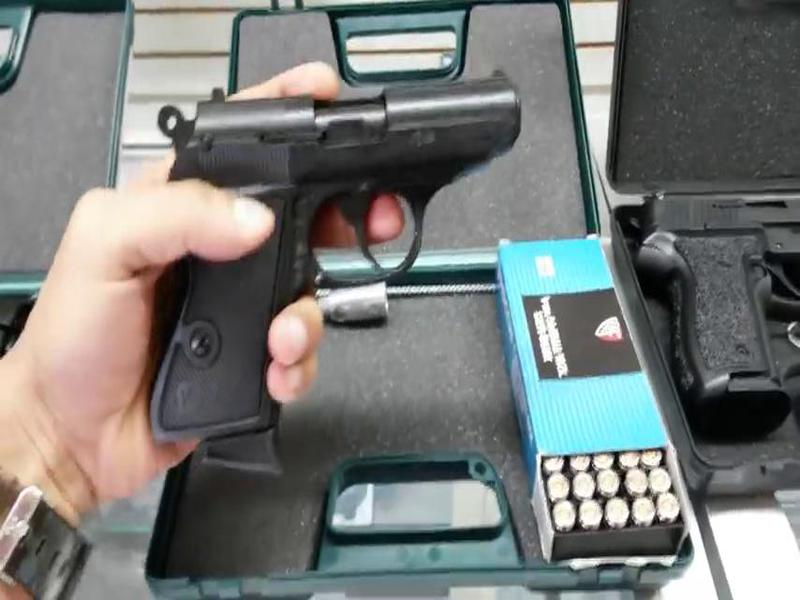Pistola: (110, 40, 523, 434)
